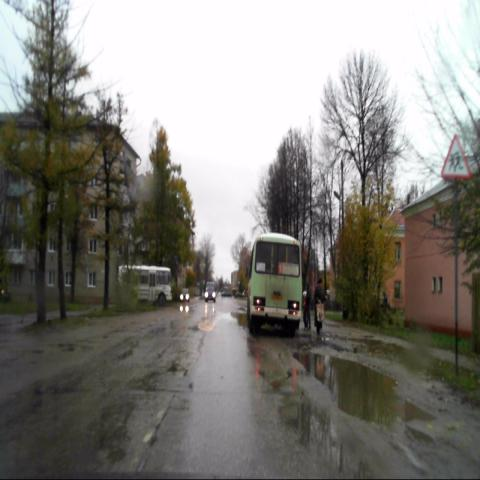1_23: (440, 132, 472, 178)
